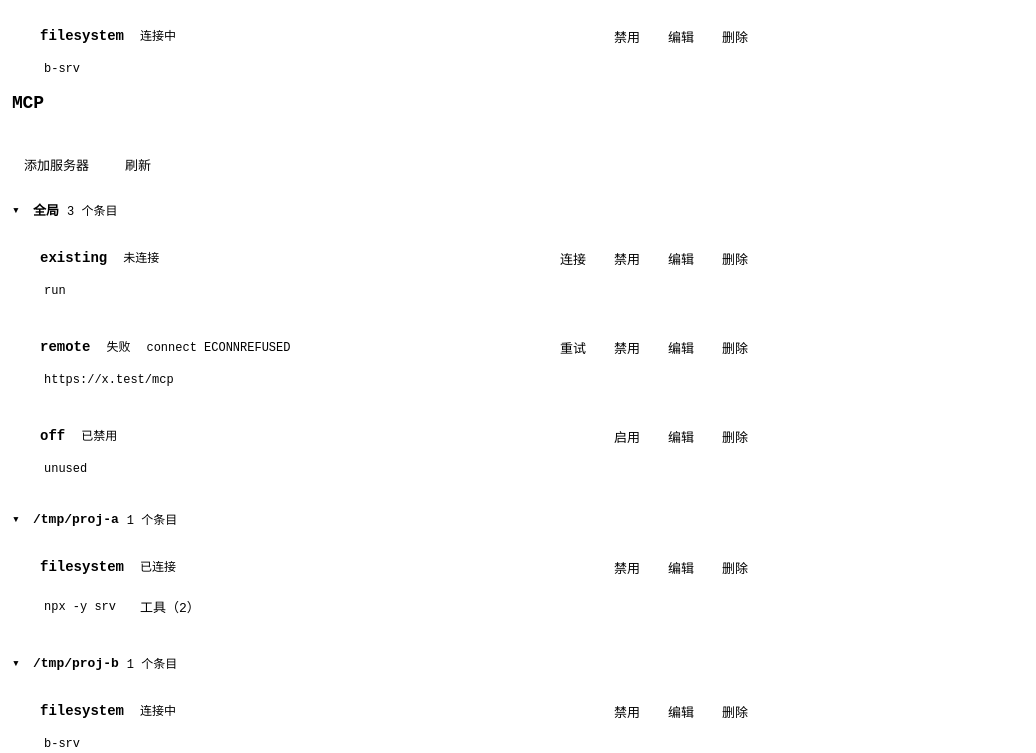
Test: McpView grouped snapshot › expands a server into its tool list with sensitive badges
(page scrolled)
Click the button with test id "mcp-expand-filesystem": [170, 606] box x1=128 y1=591 x2=212 y2=622
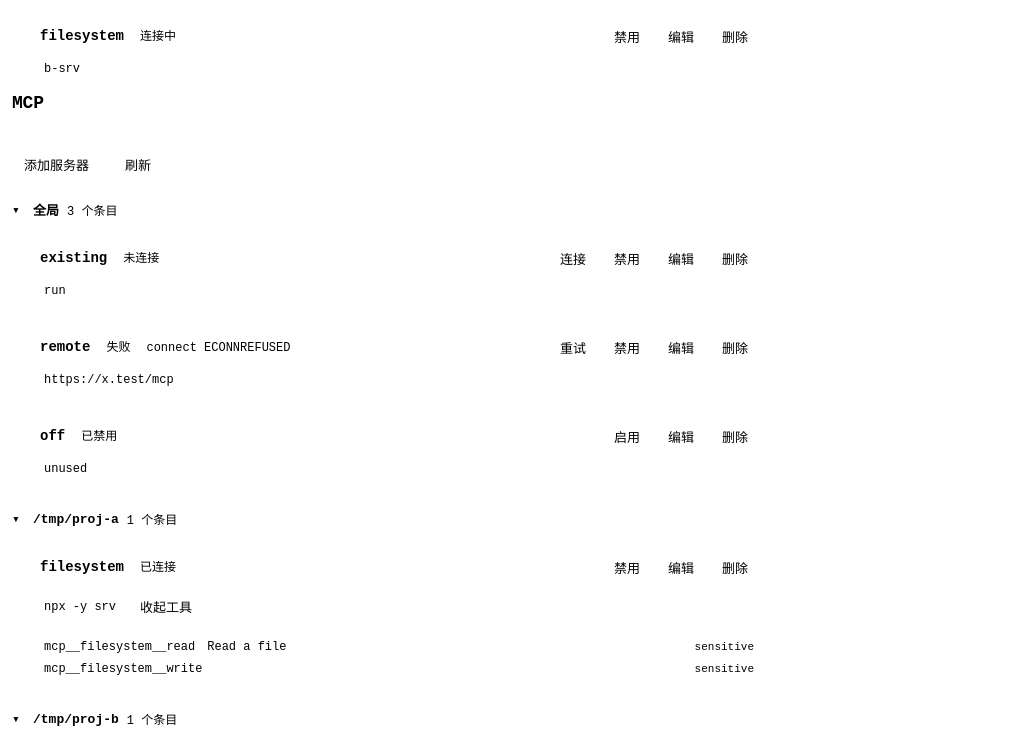
Expected: the list with test id "mcp-tools-filesystem" shows "mcp__filesystem__read", x1=44 y1=640 x2=195 y2=654
Expected: the list with test id "mcp-tools-filesystem" shows "Read a file", x1=207 y1=640 x2=286 y2=654
Expected: the list with test id "mcp-tools-filesystem" shows "mcp__filesystem__write", x1=44 y1=662 x2=202 y2=676
